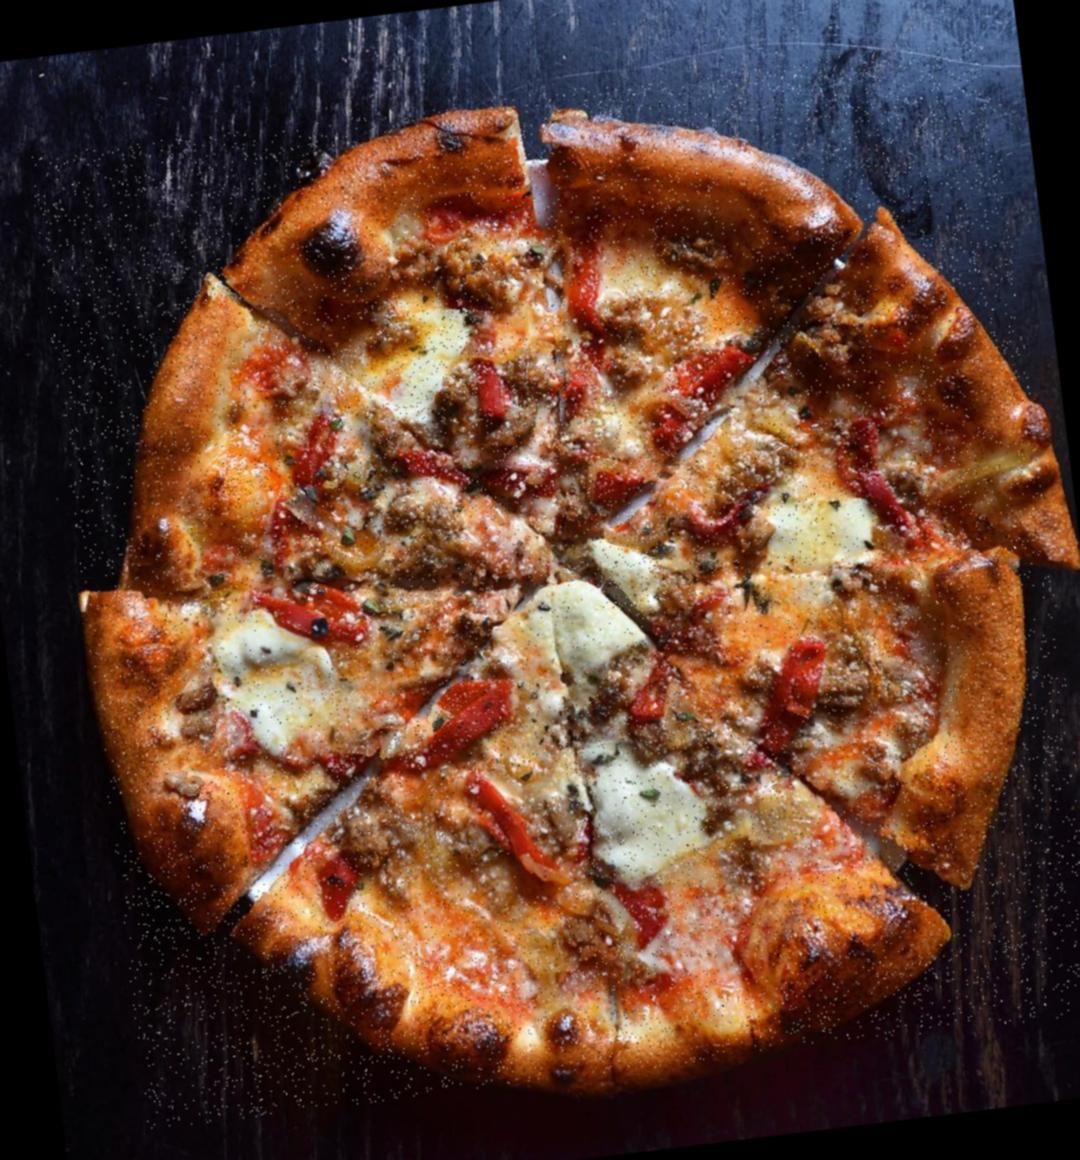Cheese: (487, 575, 642, 714), (197, 598, 335, 751), (382, 306, 491, 430), (589, 761, 703, 875), (752, 503, 879, 573), (591, 528, 672, 611)
Pizza: (29, 39, 1080, 1130)
Tomatoes: (449, 761, 580, 905), (257, 575, 366, 661), (428, 681, 510, 760), (563, 259, 621, 335), (766, 638, 820, 713), (680, 339, 747, 399), (469, 353, 511, 418)
